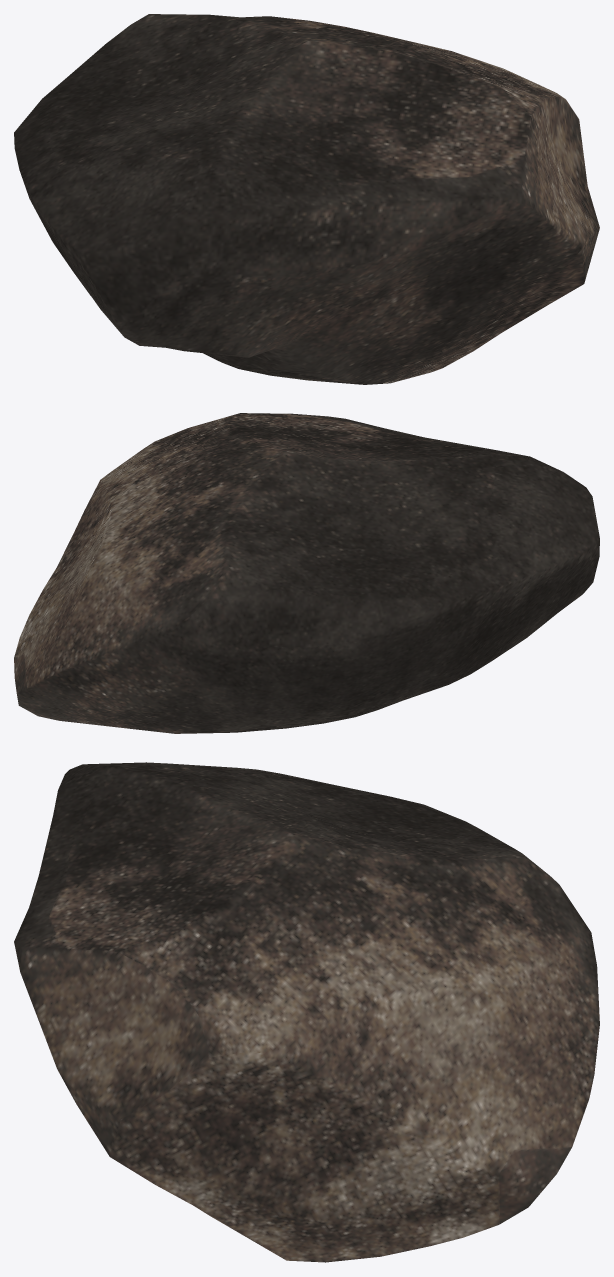
File: SM_RP_Rock_4m_8.glb
The picture shows the model from 3 angles, top to bottom: view 1: azimuth 30°, elevation 25°; view 2: azimuth 150°, elevation 25°; view 3: azimuth 270°, elevation 25°; orthographic projection. The views are drawn at different scales.
Visible parts, largest first — view 1: SM_RP_Rock_4m_8; view 2: SM_RP_Rock_4m_8; view 3: SM_RP_Rock_4m_8.
Boxes of the visible parts, x1,y1,x2,y2 form: SM_RP_Rock_4m_8: (14,14,599,384); SM_RP_Rock_4m_8: (14,413,599,733); SM_RP_Rock_4m_8: (14,762,599,1262).
Bounding box in the file's own units: 6.42 × 3.96 × 5.97.
Materials: 1 (1 with a texture image).
